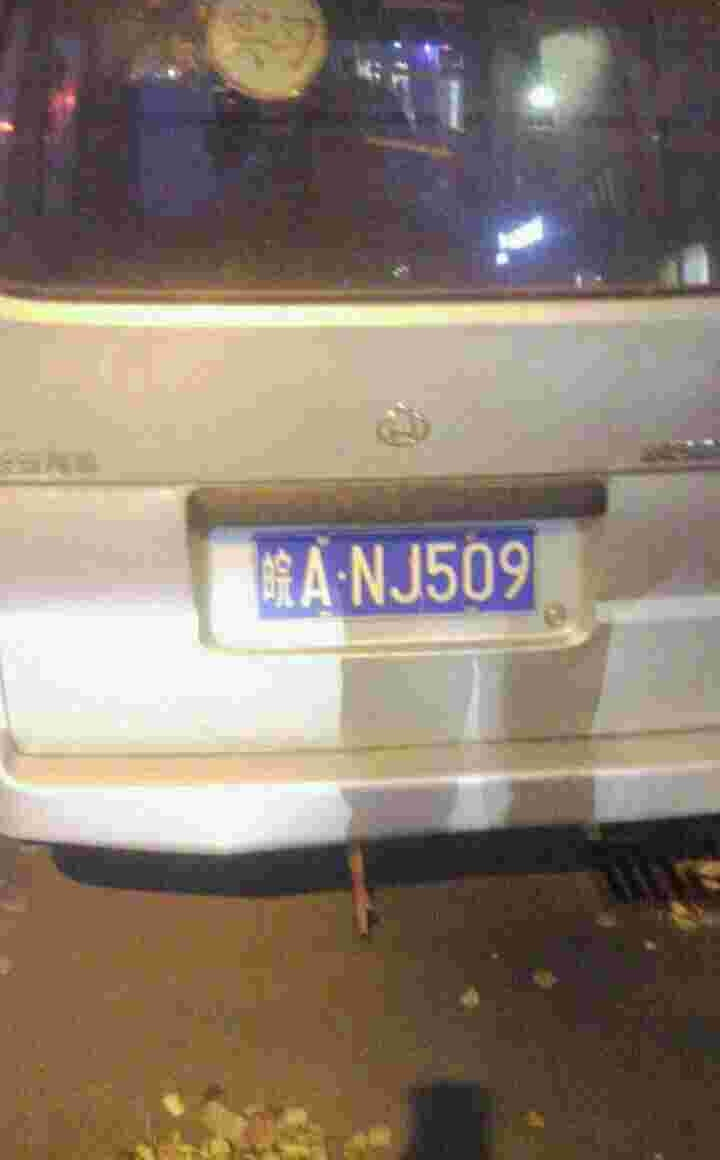car: (244, 522, 554, 615)
